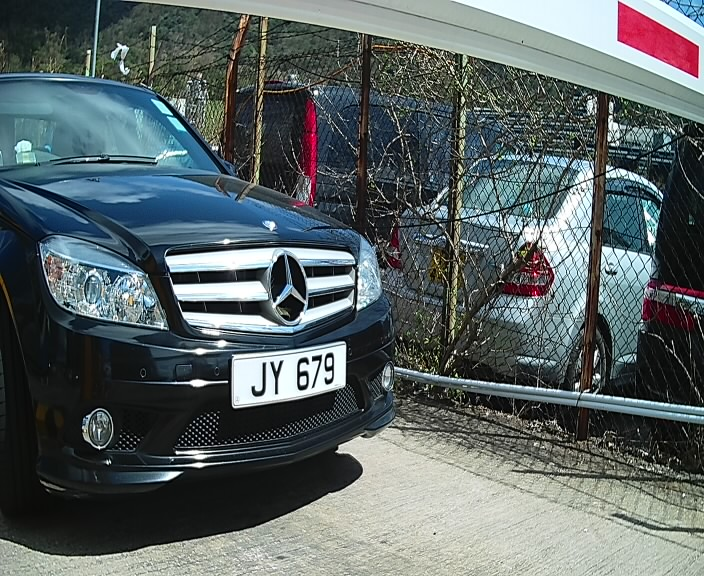License Plate: (222, 337, 353, 412)
